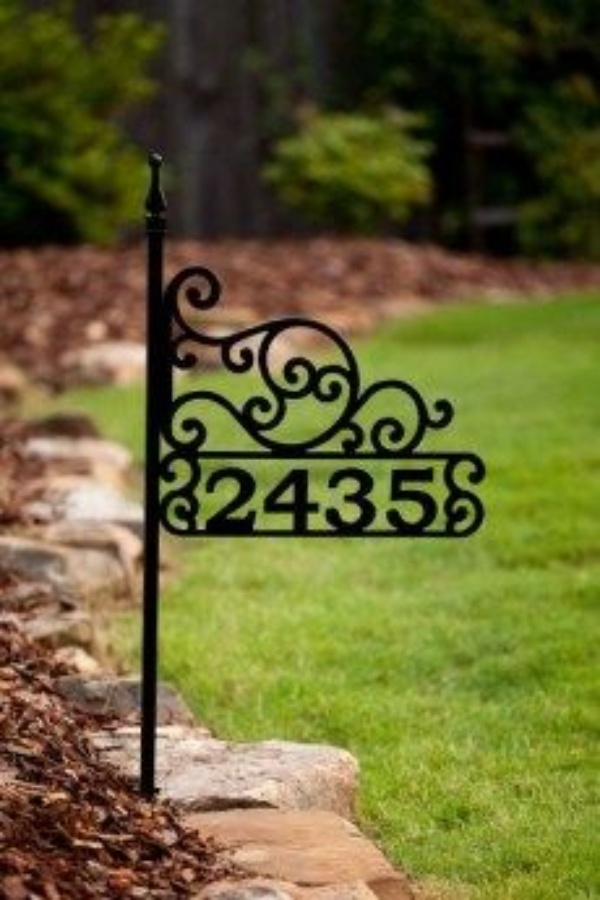text: (209, 465, 224, 535), (225, 465, 240, 535), (241, 465, 256, 535), (257, 465, 272, 535), (273, 465, 288, 535), (289, 465, 304, 535), (305, 465, 320, 535), (321, 465, 336, 535), (337, 465, 352, 535), (353, 465, 368, 535), (369, 465, 384, 535), (385, 465, 400, 535), (401, 465, 416, 535), (417, 465, 432, 535), (199, 465, 208, 535), (433, 465, 439, 535)
